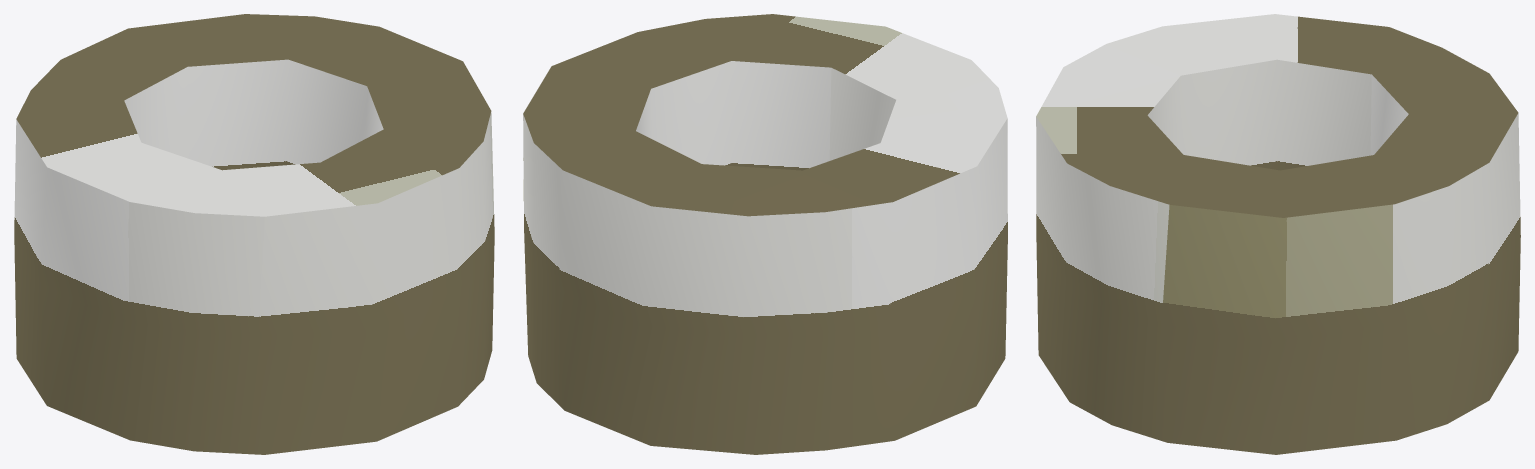
The model's file is medical_tape.glb.
3 views of the same model, side by side, from view 1: azimuth 30°, elevation 25°; view 2: azimuth 150°, elevation 25°; view 3: azimuth 270°, elevation 25° (orthographic).
Visible parts, largest first — view 1: mesh; view 2: mesh; view 3: mesh.
Boxes of the visible parts, x1,y1,x2,y2 form: mesh: (14,14,494,454); mesh: (523,14,1007,454); mesh: (1036,14,1520,454).
Size of the model in its own units: 0.0459 by 0.025 by 0.0457.
1 material, 1 textured.
